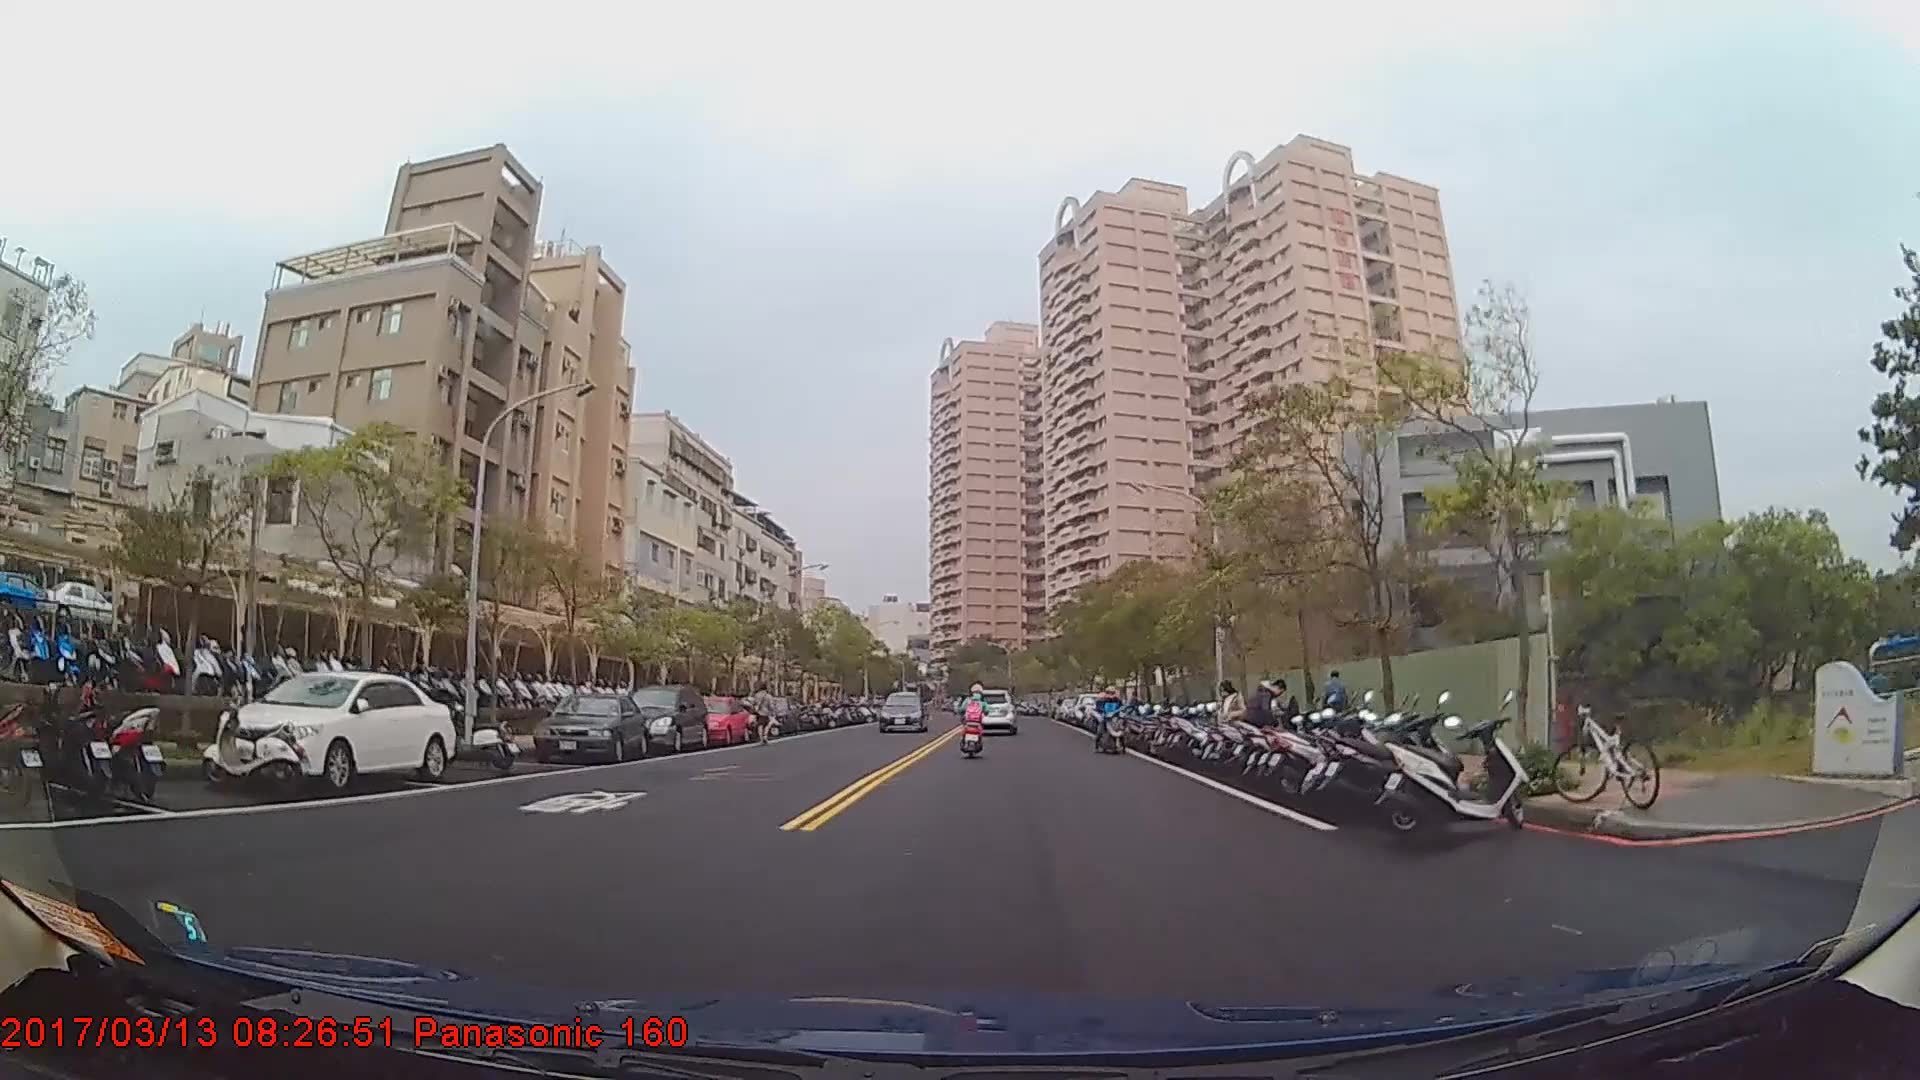pedestrian: (1241, 676, 1289, 777), (1213, 679, 1245, 775), (1319, 668, 1349, 742), (749, 683, 780, 747)
rider: (1094, 687, 1130, 756), (959, 684, 989, 756)
vehicle: (218, 668, 457, 788), (530, 690, 648, 762), (624, 683, 707, 750), (676, 694, 750, 746), (963, 690, 1017, 735), (878, 688, 927, 733)
